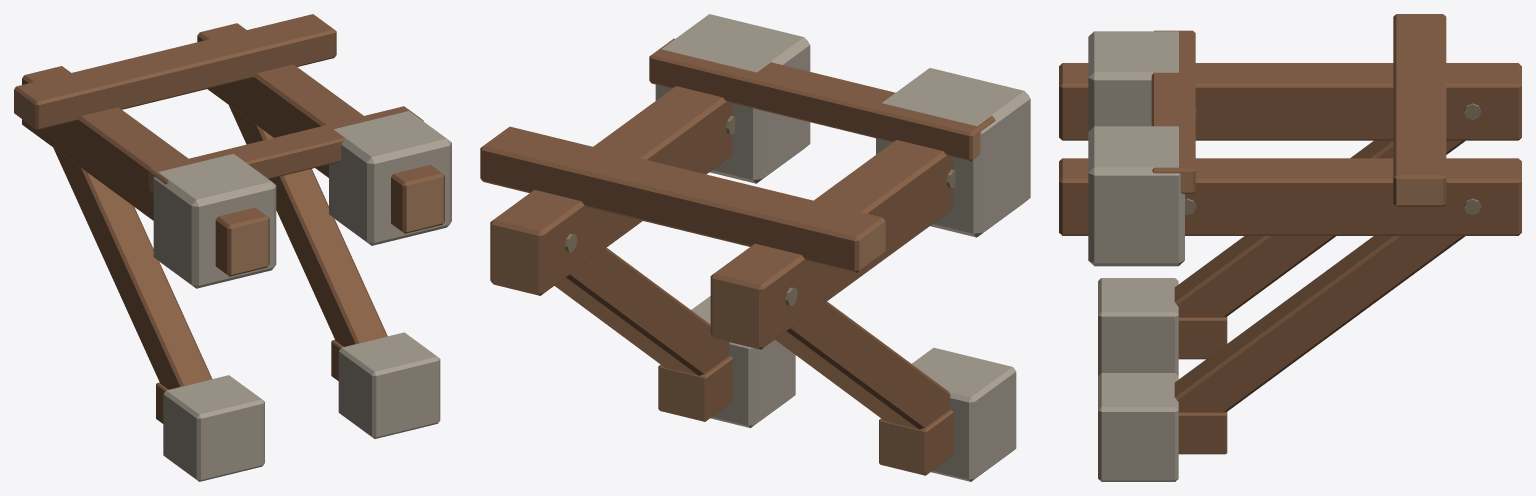
File: CH2_CliffCorbel.fbx
The picture shows the model from 3 angles, left to right: view 1: azimuth 30°, elevation 25°; view 2: azimuth 150°, elevation 25°; view 3: azimuth 270°, elevation 25°; orthographic projection. The views are drawn at different scales.
Visible parts, largest first — view 1: CliffCorbel_LOD0; view 2: CliffCorbel_LOD0; view 3: CliffCorbel_LOD0.
Boxes of the visible parts, <box> form: CliffCorbel_LOD0: <box>14,14,451,481</box>; CliffCorbel_LOD0: <box>480,14,1030,481</box>; CliffCorbel_LOD0: <box>1059,14,1521,481</box>.
Size of what is drawn, in the model's own units: 2.2 by 2.03 by 2.63.
